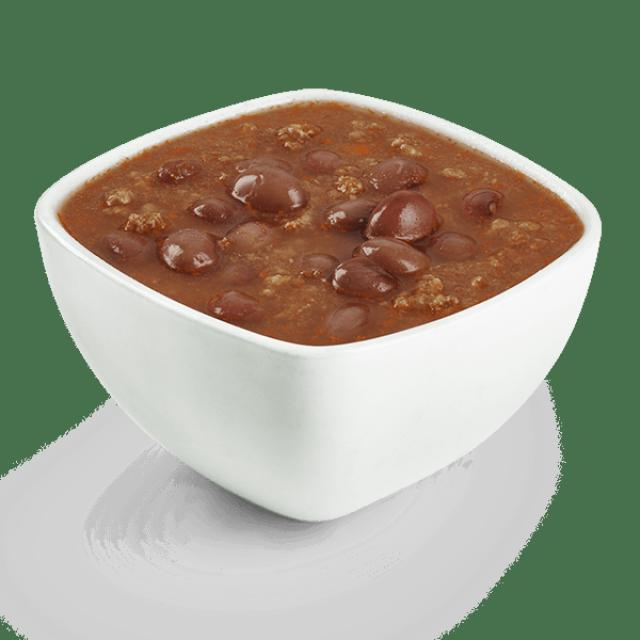frijoles: (52, 96, 585, 357)
